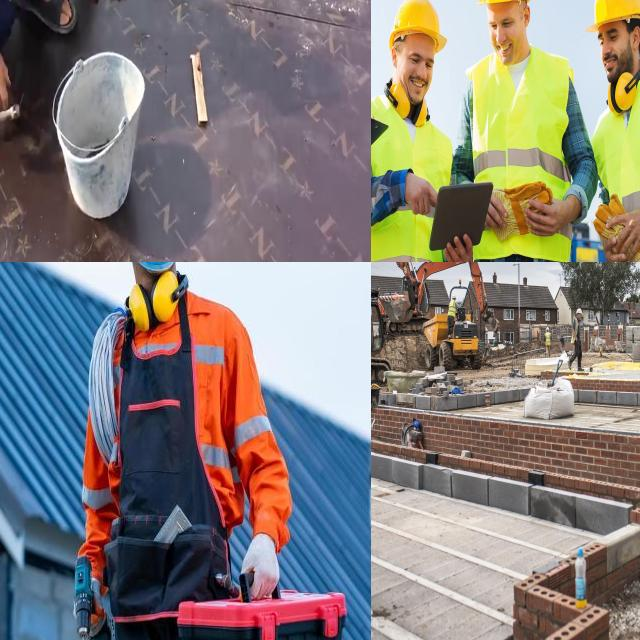Ear-protection: (115, 269, 201, 326)
Sandals: (13, 0, 78, 34)
face_nomask: (396, 32, 446, 108), (489, 5, 528, 66), (598, 25, 634, 86)
hand_glove: (236, 525, 282, 600), (73, 573, 107, 627)
hand_noglove: (400, 166, 441, 223), (610, 210, 640, 262), (0, 34, 14, 115), (443, 235, 474, 262)
head_helmet: (389, 0, 447, 54), (584, 0, 640, 32), (574, 306, 586, 316), (543, 324, 550, 332), (453, 296, 458, 302)
person: (64, 262, 351, 640), (458, 0, 593, 262), (371, 1, 456, 262), (572, 0, 640, 262), (591, 0, 640, 262), (570, 307, 588, 369), (540, 322, 556, 352), (447, 292, 461, 322)
shoes: (567, 358, 573, 371), (578, 366, 584, 372)
vest: (97, 281, 249, 545), (470, 41, 574, 262), (371, 91, 449, 262), (601, 67, 640, 262), (574, 318, 583, 341), (449, 305, 456, 315), (546, 331, 552, 342)
